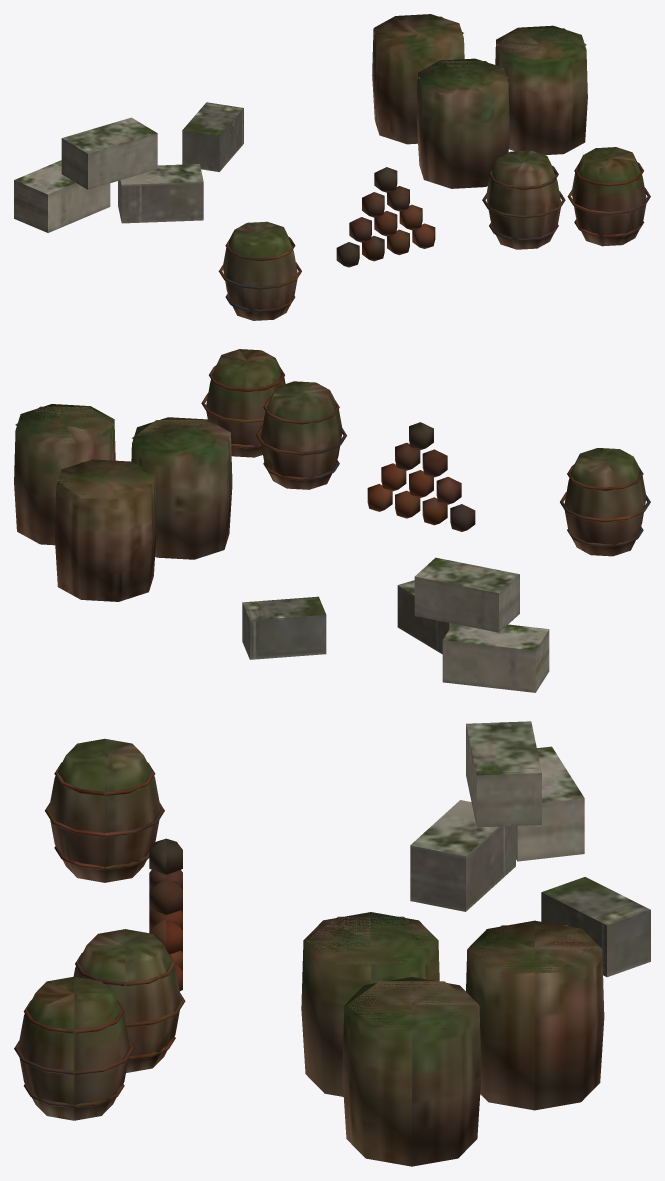
The model's file is starfort_loose_props_live.glb.
3 views of the same model, one above another, from view 1: azimuth 30°, elevation 25°; view 2: azimuth 150°, elevation 25°; view 3: azimuth 270°, elevation 25° (orthographic). The views are drawn at different scales.
Visible parts, largest first — view 1: gabion_03, gabion_02, gabion_01, barrel_03, barrel_01, barrel_02, stone_block_03, cannonballs, stone_block_02, stone_block_01, stone_block_04; view 2: gabion_01, gabion_03, gabion_02, barrel_01, barrel_03, stone_block_01, stone_block_03, cannonballs, barrel_02, stone_block_04, stone_block_02; view 3: gabion_02, gabion_01, barrel_02, barrel_03, gabion_03, barrel_01, stone_block_02, stone_block_03, stone_block_04, stone_block_01, cannonballs.
Boxes of the visible parts, box(x1,y1,x2,y2) form: gabion_03: box(416, 58, 509, 188); gabion_02: box(495, 25, 587, 154); gabion_01: box(372, 14, 464, 144); barrel_03: box(218, 221, 301, 320); barrel_01: box(482, 150, 565, 249); barrel_02: box(567, 147, 650, 246); stone_block_03: box(61, 117, 157, 189); cannonballs: box(336, 167, 435, 267); stone_block_02: box(118, 164, 203, 223); stone_block_01: box(14, 160, 110, 232); stone_block_04: box(182, 102, 243, 171); gabion_01: box(55, 459, 156, 601); gabion_03: box(131, 417, 232, 559); gabion_02: box(14, 404, 115, 545); barrel_01: box(256, 381, 346, 489); barrel_03: box(560, 448, 650, 556); stone_block_01: box(442, 623, 549, 692); stone_block_03: box(414, 557, 519, 632); cannonballs: box(367, 422, 475, 531); barrel_02: box(201, 349, 285, 457); stone_block_04: box(242, 596, 326, 659); stone_block_02: box(397, 580, 452, 654); gabion_02: box(342, 977, 481, 1166); gabion_01: box(466, 920, 604, 1110); barrel_02: box(14, 976, 134, 1120); barrel_03: box(45, 738, 164, 882); gabion_03: box(301, 912, 439, 1096); barrel_01: box(73, 929, 185, 1072); stone_block_02: box(410, 800, 515, 911); stone_block_03: box(466, 721, 541, 827); stone_block_04: box(541, 877, 650, 977); stone_block_01: box(516, 746, 584, 861); cannonballs: box(149, 838, 182, 990).
Size of what is drawn, in the model's own units: 4.23 by 0.72 by 3.11.
1 material, 1 textured.
